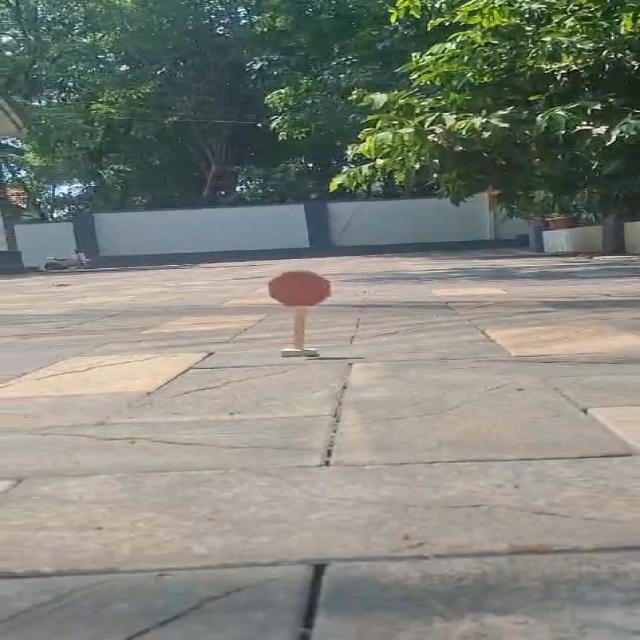Stop: (255, 265, 343, 311)
